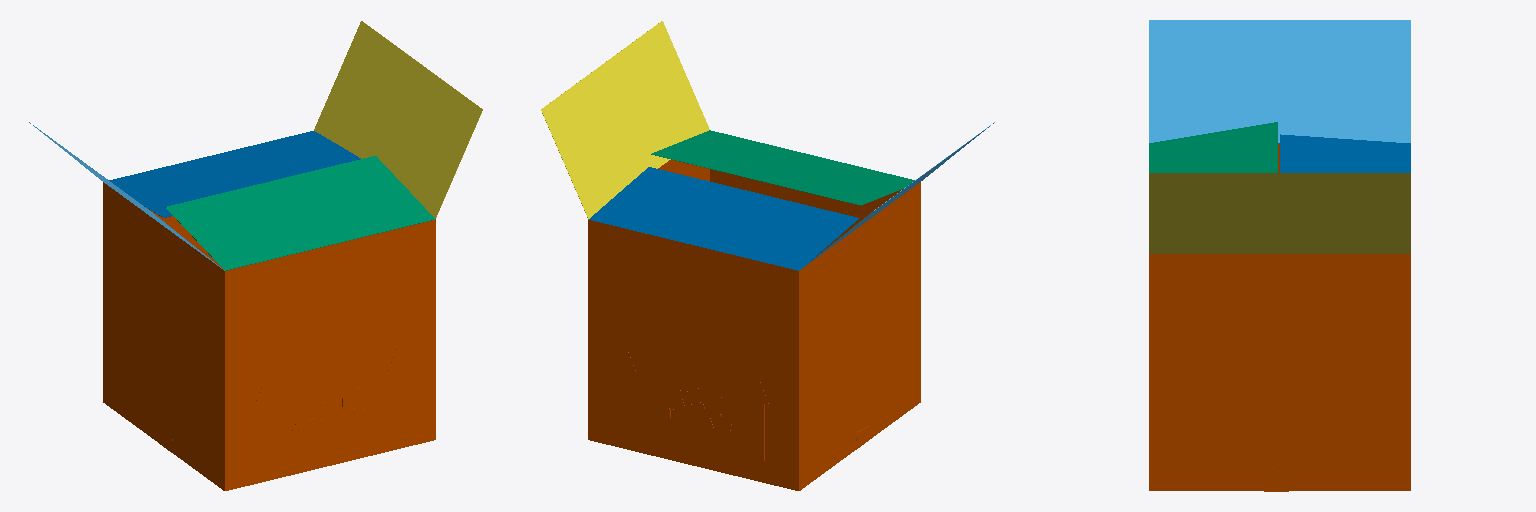
URDF robot description (partnet_a13418f2-7db5-4c2e-9219-085ebcbcbab3):
<?xml version="1.0" ?>
<robot name="partnet_a13418f2-7db5-4c2e-9219-085ebcbcbab3">
	<link name="base"/>
	<link name="link_0">
		<visual name="rotation_lid-1">
			<origin xyz="-0.07016002033574953 -0.30069100000000026 -0.4081830000000004"/>
			<geometry>
				<mesh filename="textured_objs/original-75.obj"/>
			</geometry>
		</visual>
		<collision>
			<origin xyz="-0.07016002033574953 -0.30069100000000026 -0.4081830000000004"/>
			<geometry>
				<mesh filename="textured_objs/original-75.obj"/>
			</geometry>
		</collision>
	</link>
	<joint name="joint_0" type="revolute">
		<origin xyz="0.07016002033574953 0.30069100000000026 0.4081830000000004"/>
		<axis xyz="0.7071067811865476 0 0"/>
		<child link="link_0"/>
		<parent link="link_4"/>
		<limit lower="-2.356194490192345" upper="2.356194490192345"/>
	</joint>
	<link name="link_1">
		<visual name="rotation_lid-2">
			<origin xyz="-0.4171739999999997 -0.2953071565904672 -0.04169113824290249"/>
			<geometry>
				<mesh filename="textured_objs/original-77.obj"/>
			</geometry>
		</visual>
		<collision>
			<origin xyz="-0.4171739999999997 -0.2953071565904672 -0.04169113824290249"/>
			<geometry>
				<mesh filename="textured_objs/original-77.obj"/>
			</geometry>
		</collision>
	</link>
	<joint name="joint_1" type="revolute">
		<origin xyz="0.4171739999999997 0.2953071565904672 0.04169113824290249"/>
		<axis xyz="0 0 -0.9835711830757261"/>
		<child link="link_1"/>
		<parent link="link_4"/>
		<limit lower="-0.17453292519943295" upper="4.520402762665314"/>
	</joint>
	<link name="link_2">
		<visual name="rotation_lid-3">
			<origin xyz="-0.15362878683874603 -0.29419999999999935 0.43444400000000005"/>
			<geometry>
				<mesh filename="textured_objs/original-78.obj"/>
			</geometry>
		</visual>
		<collision>
			<origin xyz="-0.15362878683874603 -0.29419999999999935 0.43444400000000005"/>
			<geometry>
				<mesh filename="textured_objs/original-78.obj"/>
			</geometry>
		</collision>
	</link>
	<joint name="joint_2" type="revolute">
		<origin xyz="0.15362878683874603 0.29419999999999935 -0.43444400000000005"/>
		<axis xyz="-0.4524338167789749 0 0"/>
		<child link="link_2"/>
		<parent link="link_4"/>
		<limit lower="-2.0420352248333655" upper="2.670353755551324"/>
	</joint>
	<link name="link_3">
		<visual name="rotation_lid-4">
			<origin xyz="0.4189620000000003 -0.29420000000000013 0.028759500469081045"/>
			<geometry>
				<mesh filename="textured_objs/original-76.obj"/>
			</geometry>
		</visual>
		<collision>
			<origin xyz="0.4189620000000003 -0.29420000000000013 0.028759500469081045"/>
			<geometry>
				<mesh filename="textured_objs/original-76.obj"/>
			</geometry>
		</collision>
	</link>
	<joint name="joint_3" type="revolute">
		<origin xyz="-0.4189620000000003 0.29420000000000013 -0.028759500469081045"/>
		<axis xyz="0 0 0.9970527123748761"/>
		<child link="link_3"/>
		<parent link="link_4"/>
		<limit lower="-0.06981317007977318" upper="4.625122517784973"/>
	</joint>
	<link name="link_4">
		<visual name="base_body-5">
			<origin xyz="0 0 0"/>
			<geometry>
				<mesh filename="textured_objs/original-29.obj"/>
			</geometry>
		</visual>
		<visual name="base_body-5">
			<origin xyz="0 0 0"/>
			<geometry>
				<mesh filename="textured_objs/original-21.obj"/>
			</geometry>
		</visual>
		<visual name="base_body-5">
			<origin xyz="0 0 0"/>
			<geometry>
				<mesh filename="textured_objs/original-30.obj"/>
			</geometry>
		</visual>
		<visual name="base_body-5">
			<origin xyz="0 0 0"/>
			<geometry>
				<mesh filename="textured_objs/original-41.obj"/>
			</geometry>
		</visual>
		<visual name="base_body-5">
			<origin xyz="0 0 0"/>
			<geometry>
				<mesh filename="textured_objs/original-28.obj"/>
			</geometry>
		</visual>
		<visual name="base_body-5">
			<origin xyz="0 0 0"/>
			<geometry>
				<mesh filename="textured_objs/original-64.obj"/>
			</geometry>
		</visual>
		<visual name="base_body-5">
			<origin xyz="0 0 0"/>
			<geometry>
				<mesh filename="textured_objs/original-71.obj"/>
			</geometry>
		</visual>
		<visual name="base_body-5">
			<origin xyz="0 0 0"/>
			<geometry>
				<mesh filename="textured_objs/original-52.obj"/>
			</geometry>
		</visual>
		<visual name="base_body-5">
			<origin xyz="0 0 0"/>
			<geometry>
				<mesh filename="textured_objs/original-83.obj"/>
			</geometry>
		</visual>
		<visual name="base_body-5">
			<origin xyz="0 0 0"/>
			<geometry>
				<mesh filename="textured_objs/original-22.obj"/>
			</geometry>
		</visual>
		<visual name="base_body-5">
			<origin xyz="0 0 0"/>
			<geometry>
				<mesh filename="textured_objs/original-26.obj"/>
			</geometry>
		</visual>
		<visual name="base_body-5">
			<origin xyz="0 0 0"/>
			<geometry>
				<mesh filename="textured_objs/original-4.obj"/>
			</geometry>
		</visual>
		<visual name="base_body-5">
			<origin xyz="0 0 0"/>
			<geometry>
				<mesh filename="textured_objs/original-65.obj"/>
			</geometry>
		</visual>
		<visual name="base_body-5">
			<origin xyz="0 0 0"/>
			<geometry>
				<mesh filename="textured_objs/original-44.obj"/>
			</geometry>
		</visual>
		<visual name="base_body-5">
			<origin xyz="0 0 0"/>
			<geometry>
				<mesh filename="textured_objs/original-16.obj"/>
			</geometry>
		</visual>
		<visual name="base_body-5">
			<origin xyz="0 0 0"/>
			<geometry>
				<mesh filename="textured_objs/original-8.obj"/>
			</geometry>
		</visual>
		<visual name="base_body-5">
			<origin xyz="0 0 0"/>
			<geometry>
				<mesh filename="textured_objs/original-13.obj"/>
			</geometry>
		</visual>
		<visual name="base_body-5">
			<origin xyz="0 0 0"/>
			<geometry>
				<mesh filename="textured_objs/original-9.obj"/>
			</geometry>
		</visual>
		<visual name="base_body-5">
			<origin xyz="0 0 0"/>
			<geometry>
				<mesh filename="textured_objs/original-45.obj"/>
			</geometry>
		</visual>
		<visual name="base_body-5">
			<origin xyz="0 0 0"/>
			<geometry>
				<mesh filename="textured_objs/original-35.obj"/>
			</geometry>
		</visual>
		<visual name="base_body-5">
			<origin xyz="0 0 0"/>
			<geometry>
				<mesh filename="textured_objs/original-49.obj"/>
			</geometry>
		</visual>
		<visual name="base_body-5">
			<origin xyz="0 0 0"/>
			<geometry>
				<mesh filename="textured_objs/original-61.obj"/>
			</geometry>
		</visual>
		<visual name="base_body-5">
			<origin xyz="0 0 0"/>
			<geometry>
				<mesh filename="textured_objs/original-59.obj"/>
			</geometry>
		</visual>
		<visual name="base_body-5">
			<origin xyz="0 0 0"/>
			<geometry>
				<mesh filename="textured_objs/original-5.obj"/>
			</geometry>
		</visual>
		<visual name="base_body-5">
			<origin xyz="0 0 0"/>
			<geometry>
				<mesh filename="textured_objs/original-54.obj"/>
			</geometry>
		</visual>
		<visual name="base_body-5">
			<origin xyz="0 0 0"/>
			<geometry>
				<mesh filename="textured_objs/original-63.obj"/>
			</geometry>
		</visual>
		<visual name="base_body-5">
			<origin xyz="0 0 0"/>
			<geometry>
				<mesh filename="textured_objs/original-27.obj"/>
			</geometry>
		</visual>
		<visual name="base_body-5">
			<origin xyz="0 0 0"/>
			<geometry>
				<mesh filename="textured_objs/original-51.obj"/>
			</geometry>
		</visual>
		<visual name="base_body-5">
			<origin xyz="0 0 0"/>
			<geometry>
				<mesh filename="textured_objs/original-55.obj"/>
			</geometry>
		</visual>
		<visual name="base_body-5">
			<origin xyz="0 0 0"/>
			<geometry>
				<mesh filename="textured_objs/original-50.obj"/>
			</geometry>
		</visual>
		<visual name="base_body-5">
			<origin xyz="0 0 0"/>
			<geometry>
				<mesh filename="textured_objs/original-31.obj"/>
			</geometry>
		</visual>
		<visual name="base_body-5">
			<origin xyz="0 0 0"/>
			<geometry>
				<mesh filename="textured_objs/original-37.obj"/>
			</geometry>
		</visual>
		<visual name="base_body-5">
			<origin xyz="0 0 0"/>
			<geometry>
				<mesh filename="textured_objs/original-48.obj"/>
			</geometry>
		</visual>
		<visual name="base_body-5">
			<origin xyz="0 0 0"/>
			<geometry>
				<mesh filename="textured_objs/original-15.obj"/>
			</geometry>
		</visual>
		<visual name="base_body-5">
			<origin xyz="0 0 0"/>
			<geometry>
				<mesh filename="textured_objs/original-85.obj"/>
			</geometry>
		</visual>
		<visual name="base_body-5">
			<origin xyz="0 0 0"/>
			<geometry>
				<mesh filename="textured_objs/original-56.obj"/>
			</geometry>
		</visual>
		<visual name="base_body-5">
			<origin xyz="0 0 0"/>
			<geometry>
				<mesh filename="textured_objs/original-72.obj"/>
			</geometry>
		</visual>
		<visual name="base_body-5">
			<origin xyz="0 0 0"/>
			<geometry>
				<mesh filename="textured_objs/original-62.obj"/>
			</geometry>
		</visual>
		<visual name="base_body-5">
			<origin xyz="0 0 0"/>
			<geometry>
				<mesh filename="textured_objs/original-23.obj"/>
			</geometry>
		</visual>
		<visual name="base_body-5">
			<origin xyz="0 0 0"/>
			<geometry>
				<mesh filename="textured_objs/original-66.obj"/>
			</geometry>
		</visual>
		<visual name="base_body-5">
			<origin xyz="0 0 0"/>
			<geometry>
				<mesh filename="textured_objs/original-58.obj"/>
			</geometry>
		</visual>
		<visual name="base_body-5">
			<origin xyz="0 0 0"/>
			<geometry>
				<mesh filename="textured_objs/original-67.obj"/>
			</geometry>
		</visual>
		<visual name="base_body-5">
			<origin xyz="0 0 0"/>
			<geometry>
				<mesh filename="textured_objs/original-69.obj"/>
			</geometry>
		</visual>
		<visual name="base_body-5">
			<origin xyz="0 0 0"/>
			<geometry>
				<mesh filename="textured_objs/original-11.obj"/>
			</geometry>
		</visual>
		<visual name="base_body-5">
			<origin xyz="0 0 0"/>
			<geometry>
				<mesh filename="textured_objs/original-38.obj"/>
			</geometry>
		</visual>
		<visual name="base_body-5">
			<origin xyz="0 0 0"/>
			<geometry>
				<mesh filename="textured_objs/original-68.obj"/>
			</geometry>
		</visual>
		<visual name="base_body-5">
			<origin xyz="0 0 0"/>
			<geometry>
				<mesh filename="textured_objs/original-80.obj"/>
			</geometry>
		</visual>
		<visual name="base_body-5">
			<origin xyz="0 0 0"/>
			<geometry>
				<mesh filename="textured_objs/original-34.obj"/>
			</geometry>
		</visual>
		<visual name="base_body-5">
			<origin xyz="0 0 0"/>
			<geometry>
				<mesh filename="textured_objs/original-18.obj"/>
			</geometry>
		</visual>
		<visual name="base_body-5">
			<origin xyz="0 0 0"/>
			<geometry>
				<mesh filename="textured_objs/original-74.obj"/>
			</geometry>
		</visual>
		<visual name="base_body-5">
			<origin xyz="0 0 0"/>
			<geometry>
				<mesh filename="textured_objs/original-25.obj"/>
			</geometry>
		</visual>
		<visual name="base_body-5">
			<origin xyz="0 0 0"/>
			<geometry>
				<mesh filename="textured_objs/original-17.obj"/>
			</geometry>
		</visual>
		<visual name="base_body-5">
			<origin xyz="0 0 0"/>
			<geometry>
				<mesh filename="textured_objs/original-73.obj"/>
			</geometry>
		</visual>
		<visual name="base_body-5">
			<origin xyz="0 0 0"/>
			<geometry>
				<mesh filename="textured_objs/original-12.obj"/>
			</geometry>
		</visual>
		<visual name="base_body-5">
			<origin xyz="0 0 0"/>
			<geometry>
				<mesh filename="textured_objs/original-42.obj"/>
			</geometry>
		</visual>
		<visual name="base_body-5">
			<origin xyz="0 0 0"/>
			<geometry>
				<mesh filename="textured_objs/original-79.obj"/>
			</geometry>
		</visual>
		<visual name="base_body-5">
			<origin xyz="0 0 0"/>
			<geometry>
				<mesh filename="textured_objs/original-24.obj"/>
			</geometry>
		</visual>
		<visual name="base_body-5">
			<origin xyz="0 0 0"/>
			<geometry>
				<mesh filename="textured_objs/original-20.obj"/>
			</geometry>
		</visual>
		<visual name="base_body-5">
			<origin xyz="0 0 0"/>
			<geometry>
				<mesh filename="textured_objs/original-32.obj"/>
			</geometry>
		</visual>
		<visual name="base_body-5">
			<origin xyz="0 0 0"/>
			<geometry>
				<mesh filename="textured_objs/original-47.obj"/>
			</geometry>
		</visual>
		<visual name="base_body-5">
			<origin xyz="0 0 0"/>
			<geometry>
				<mesh filename="textured_objs/original-53.obj"/>
			</geometry>
		</visual>
		<visual name="base_body-5">
			<origin xyz="0 0 0"/>
			<geometry>
				<mesh filename="textured_objs/original-7.obj"/>
			</geometry>
		</visual>
		<visual name="base_body-5">
			<origin xyz="0 0 0"/>
			<geometry>
				<mesh filename="textured_objs/original-1.obj"/>
			</geometry>
		</visual>
		<visual name="base_body-5">
			<origin xyz="0 0 0"/>
			<geometry>
				<mesh filename="textured_objs/original-81.obj"/>
			</geometry>
		</visual>
		<visual name="base_body-5">
			<origin xyz="0 0 0"/>
			<geometry>
				<mesh filename="textured_objs/original-84.obj"/>
			</geometry>
		</visual>
		<visual name="base_body-5">
			<origin xyz="0 0 0"/>
			<geometry>
				<mesh filename="textured_objs/original-10.obj"/>
			</geometry>
		</visual>
		<visual name="base_body-5">
			<origin xyz="0 0 0"/>
			<geometry>
				<mesh filename="textured_objs/original-14.obj"/>
			</geometry>
		</visual>
		<visual name="base_body-5">
			<origin xyz="0 0 0"/>
			<geometry>
				<mesh filename="textured_objs/original-82.obj"/>
			</geometry>
		</visual>
		<visual name="base_body-5">
			<origin xyz="0 0 0"/>
			<geometry>
				<mesh filename="textured_objs/original-60.obj"/>
			</geometry>
		</visual>
		<visual name="base_body-5">
			<origin xyz="0 0 0"/>
			<geometry>
				<mesh filename="textured_objs/original-19.obj"/>
			</geometry>
		</visual>
		<visual name="base_body-5">
			<origin xyz="0 0 0"/>
			<geometry>
				<mesh filename="textured_objs/original-46.obj"/>
			</geometry>
		</visual>
		<visual name="base_body-5">
			<origin xyz="0 0 0"/>
			<geometry>
				<mesh filename="textured_objs/original-57.obj"/>
			</geometry>
		</visual>
		<collision>
			<origin xyz="0 0 0"/>
			<geometry>
				<mesh filename="textured_objs/original-29.obj"/>
			</geometry>
		</collision>
		<collision>
			<origin xyz="0 0 0"/>
			<geometry>
				<mesh filename="textured_objs/original-21.obj"/>
			</geometry>
		</collision>
		<collision>
			<origin xyz="0 0 0"/>
			<geometry>
				<mesh filename="textured_objs/original-30.obj"/>
			</geometry>
		</collision>
		<collision>
			<origin xyz="0 0 0"/>
			<geometry>
				<mesh filename="textured_objs/original-41.obj"/>
			</geometry>
		</collision>
		<collision>
			<origin xyz="0 0 0"/>
			<geometry>
				<mesh filename="textured_objs/original-28.obj"/>
			</geometry>
		</collision>
		<collision>
			<origin xyz="0 0 0"/>
			<geometry>
				<mesh filename="textured_objs/original-64.obj"/>
			</geometry>
		</collision>
		<collision>
			<origin xyz="0 0 0"/>
			<geometry>
				<mesh filename="textured_objs/original-71.obj"/>
			</geometry>
		</collision>
		<collision>
			<origin xyz="0 0 0"/>
			<geometry>
				<mesh filename="textured_objs/original-52.obj"/>
			</geometry>
		</collision>
		<collision>
			<origin xyz="0 0 0"/>
			<geometry>
				<mesh filename="textured_objs/original-83.obj"/>
			</geometry>
		</collision>
		<collision>
			<origin xyz="0 0 0"/>
			<geometry>
				<mesh filename="textured_objs/original-22.obj"/>
			</geometry>
		</collision>
		<collision>
			<origin xyz="0 0 0"/>
			<geometry>
				<mesh filename="textured_objs/original-26.obj"/>
			</geometry>
		</collision>
		<collision>
			<origin xyz="0 0 0"/>
			<geometry>
				<mesh filename="textured_objs/original-4.obj"/>
			</geometry>
		</collision>
		<collision>
			<origin xyz="0 0 0"/>
			<geometry>
				<mesh filename="textured_objs/original-65.obj"/>
			</geometry>
		</collision>
		<collision>
			<origin xyz="0 0 0"/>
			<geometry>
				<mesh filename="textured_objs/original-44.obj"/>
			</geometry>
		</collision>
		<collision>
			<origin xyz="0 0 0"/>
			<geometry>
				<mesh filename="textured_objs/original-16.obj"/>
			</geometry>
		</collision>
		<collision>
			<origin xyz="0 0 0"/>
			<geometry>
				<mesh filename="textured_objs/original-8.obj"/>
			</geometry>
		</collision>
		<collision>
			<origin xyz="0 0 0"/>
			<geometry>
				<mesh filename="textured_objs/original-13.obj"/>
			</geometry>
		</collision>
		<collision>
			<origin xyz="0 0 0"/>
			<geometry>
				<mesh filename="textured_objs/original-9.obj"/>
			</geometry>
		</collision>
		<collision>
			<origin xyz="0 0 0"/>
			<geometry>
				<mesh filename="textured_objs/original-45.obj"/>
			</geometry>
		</collision>
		<collision>
			<origin xyz="0 0 0"/>
			<geometry>
				<mesh filename="textured_objs/original-35.obj"/>
			</geometry>
		</collision>
		<collision>
			<origin xyz="0 0 0"/>
			<geometry>
				<mesh filename="textured_objs/original-49.obj"/>
			</geometry>
		</collision>
		<collision>
			<origin xyz="0 0 0"/>
			<geometry>
				<mesh filename="textured_objs/original-61.obj"/>
			</geometry>
		</collision>
		<collision>
			<origin xyz="0 0 0"/>
			<geometry>
				<mesh filename="textured_objs/original-59.obj"/>
			</geometry>
		</collision>
		<collision>
			<origin xyz="0 0 0"/>
			<geometry>
				<mesh filename="textured_objs/original-5.obj"/>
			</geometry>
		</collision>
		<collision>
			<origin xyz="0 0 0"/>
			<geometry>
				<mesh filename="textured_objs/original-54.obj"/>
			</geometry>
		</collision>
		<collision>
			<origin xyz="0 0 0"/>
			<geometry>
				<mesh filename="textured_objs/original-63.obj"/>
			</geometry>
		</collision>
		<collision>
			<origin xyz="0 0 0"/>
			<geometry>
				<mesh filename="textured_objs/original-27.obj"/>
			</geometry>
		</collision>
		<collision>
			<origin xyz="0 0 0"/>
			<geometry>
				<mesh filename="textured_objs/original-51.obj"/>
			</geometry>
		</collision>
		<collision>
			<origin xyz="0 0 0"/>
			<geometry>
				<mesh filename="textured_objs/original-55.obj"/>
			</geometry>
		</collision>
		<collision>
			<origin xyz="0 0 0"/>
			<geometry>
				<mesh filename="textured_objs/original-50.obj"/>
			</geometry>
		</collision>
		<collision>
			<origin xyz="0 0 0"/>
			<geometry>
				<mesh filename="textured_objs/original-31.obj"/>
			</geometry>
		</collision>
		<collision>
			<origin xyz="0 0 0"/>
			<geometry>
				<mesh filename="textured_objs/original-37.obj"/>
			</geometry>
		</collision>
		<collision>
			<origin xyz="0 0 0"/>
			<geometry>
				<mesh filename="textured_objs/original-48.obj"/>
			</geometry>
		</collision>
		<collision>
			<origin xyz="0 0 0"/>
			<geometry>
				<mesh filename="textured_objs/original-15.obj"/>
			</geometry>
		</collision>
		<collision>
			<origin xyz="0 0 0"/>
			<geometry>
				<mesh filename="textured_objs/original-85.obj"/>
			</geometry>
		</collision>
		<collision>
			<origin xyz="0 0 0"/>
			<geometry>
				<mesh filename="textured_objs/original-56.obj"/>
			</geometry>
		</collision>
		<collision>
			<origin xyz="0 0 0"/>
			<geometry>
				<mesh filename="textured_objs/original-72.obj"/>
			</geometry>
		</collision>
		<collision>
			<origin xyz="0 0 0"/>
			<geometry>
				<mesh filename="textured_objs/original-62.obj"/>
			</geometry>
		</collision>
		<collision>
			<origin xyz="0 0 0"/>
			<geometry>
				<mesh filename="textured_objs/original-23.obj"/>
			</geometry>
		</collision>
		<collision>
			<origin xyz="0 0 0"/>
			<geometry>
				<mesh filename="textured_objs/original-66.obj"/>
			</geometry>
		</collision>
		<collision>
			<origin xyz="0 0 0"/>
			<geometry>
				<mesh filename="textured_objs/original-58.obj"/>
			</geometry>
		</collision>
		<collision>
			<origin xyz="0 0 0"/>
			<geometry>
				<mesh filename="textured_objs/original-67.obj"/>
			</geometry>
		</collision>
		<collision>
			<origin xyz="0 0 0"/>
			<geometry>
				<mesh filename="textured_objs/original-69.obj"/>
			</geometry>
		</collision>
		<collision>
			<origin xyz="0 0 0"/>
			<geometry>
				<mesh filename="textured_objs/original-11.obj"/>
			</geometry>
		</collision>
		<collision>
			<origin xyz="0 0 0"/>
			<geometry>
				<mesh filename="textured_objs/original-38.obj"/>
			</geometry>
		</collision>
		<collision>
			<origin xyz="0 0 0"/>
			<geometry>
				<mesh filename="textured_objs/original-68.obj"/>
			</geometry>
		</collision>
		<collision>
			<origin xyz="0 0 0"/>
			<geometry>
				<mesh filename="textured_objs/original-80.obj"/>
			</geometry>
		</collision>
		<collision>
			<origin xyz="0 0 0"/>
			<geometry>
				<mesh filename="textured_objs/original-34.obj"/>
			</geometry>
		</collision>
		<collision>
			<origin xyz="0 0 0"/>
			<geometry>
				<mesh filename="textured_objs/original-18.obj"/>
			</geometry>
		</collision>
		<collision>
			<origin xyz="0 0 0"/>
			<geometry>
				<mesh filename="textured_objs/original-74.obj"/>
			</geometry>
		</collision>
		<collision>
			<origin xyz="0 0 0"/>
			<geometry>
				<mesh filename="textured_objs/original-25.obj"/>
			</geometry>
		</collision>
		<collision>
			<origin xyz="0 0 0"/>
			<geometry>
				<mesh filename="textured_objs/original-17.obj"/>
			</geometry>
		</collision>
		<collision>
			<origin xyz="0 0 0"/>
			<geometry>
				<mesh filename="textured_objs/original-73.obj"/>
			</geometry>
		</collision>
		<collision>
			<origin xyz="0 0 0"/>
			<geometry>
				<mesh filename="textured_objs/original-12.obj"/>
			</geometry>
		</collision>
		<collision>
			<origin xyz="0 0 0"/>
			<geometry>
				<mesh filename="textured_objs/original-42.obj"/>
			</geometry>
		</collision>
		<collision>
			<origin xyz="0 0 0"/>
			<geometry>
				<mesh filename="textured_objs/original-79.obj"/>
			</geometry>
		</collision>
		<collision>
			<origin xyz="0 0 0"/>
			<geometry>
				<mesh filename="textured_objs/original-24.obj"/>
			</geometry>
		</collision>
		<collision>
			<origin xyz="0 0 0"/>
			<geometry>
				<mesh filename="textured_objs/original-20.obj"/>
			</geometry>
		</collision>
		<collision>
			<origin xyz="0 0 0"/>
			<geometry>
				<mesh filename="textured_objs/original-32.obj"/>
			</geometry>
		</collision>
		<collision>
			<origin xyz="0 0 0"/>
			<geometry>
				<mesh filename="textured_objs/original-47.obj"/>
			</geometry>
		</collision>
		<collision>
			<origin xyz="0 0 0"/>
			<geometry>
				<mesh filename="textured_objs/original-53.obj"/>
			</geometry>
		</collision>
		<collision>
			<origin xyz="0 0 0"/>
			<geometry>
				<mesh filename="textured_objs/original-7.obj"/>
			</geometry>
		</collision>
		<collision>
			<origin xyz="0 0 0"/>
			<geometry>
				<mesh filename="textured_objs/original-1.obj"/>
			</geometry>
		</collision>
		<collision>
			<origin xyz="0 0 0"/>
			<geometry>
				<mesh filename="textured_objs/original-81.obj"/>
			</geometry>
		</collision>
		<collision>
			<origin xyz="0 0 0"/>
			<geometry>
				<mesh filename="textured_objs/original-84.obj"/>
			</geometry>
		</collision>
		<collision>
			<origin xyz="0 0 0"/>
			<geometry>
				<mesh filename="textured_objs/original-10.obj"/>
			</geometry>
		</collision>
		<collision>
			<origin xyz="0 0 0"/>
			<geometry>
				<mesh filename="textured_objs/original-14.obj"/>
			</geometry>
		</collision>
		<collision>
			<origin xyz="0 0 0"/>
			<geometry>
				<mesh filename="textured_objs/original-82.obj"/>
			</geometry>
		</collision>
		<collision>
			<origin xyz="0 0 0"/>
			<geometry>
				<mesh filename="textured_objs/original-60.obj"/>
			</geometry>
		</collision>
		<collision>
			<origin xyz="0 0 0"/>
			<geometry>
				<mesh filename="textured_objs/original-19.obj"/>
			</geometry>
		</collision>
		<collision>
			<origin xyz="0 0 0"/>
			<geometry>
				<mesh filename="textured_objs/original-46.obj"/>
			</geometry>
		</collision>
		<collision>
			<origin xyz="0 0 0"/>
			<geometry>
				<mesh filename="textured_objs/original-57.obj"/>
			</geometry>
		</collision>
	</link>
	<joint name="joint_4" type="fixed">
		<origin rpy="1.570796326794897 0 -1.570796326794897" xyz="0 0 0"/>
		<child link="link_4"/>
		<parent link="base"/>
	</joint>
</robot>

--- Facts derived from the render (not from the file) ---
3 views of the same robot in one strip: view 1: azimuth 30°, elevation 25°; view 2: azimuth 150°, elevation 25°; view 3: azimuth 270°, elevation 25° (orthographic).
Model partnet_a13418f2-7db5-4c2e-9219-085ebcbcbab3 with 6 links and 5 joints (4 revolute, 1 fixed), rooted at base, posed every joint at zero.
Visible links, largest first — view 1: link_4, link_2, link_1, link_3, link_0; view 2: link_4, link_2, link_3, link_1, link_0; view 3: link_4, link_0, link_2, link_1, link_3.
Boxes of the visible links, x1,y1,x2,y2 form: link_4: [103, 182, 435, 490]; link_2: [314, 21, 482, 218]; link_1: [165, 156, 435, 270]; link_3: [109, 131, 360, 217]; link_0: [29, 122, 224, 270]; link_4: [588, 160, 920, 490]; link_2: [541, 21, 709, 219]; link_3: [589, 167, 859, 270]; link_1: [651, 130, 914, 205]; link_0: [799, 122, 994, 270]; link_4: [1149, 144, 1410, 491]; link_0: [1149, 20, 1410, 143]; link_2: [1149, 173, 1410, 253]; link_1: [1149, 122, 1277, 172]; link_3: [1280, 134, 1410, 172].
Bounding box of the posed robot: 1.32 × 0.838 × 1.21 m (x, y, z).
Meshes: 76 distinct files referenced, 76 mesh visuals loaded (76 OBJ).